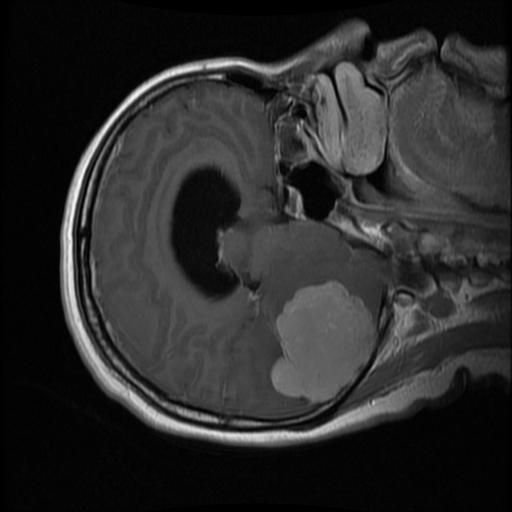meningioma: (272, 280, 378, 405)
